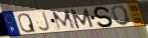J: (38, 11, 52, 32)
M: (69, 8, 96, 30), (51, 9, 78, 31)
O: (111, 5, 133, 27)
Q: (17, 13, 38, 34)
S: (92, 6, 114, 28)
